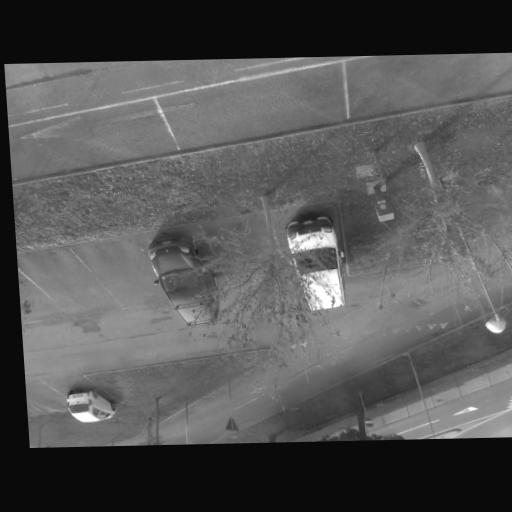busy: (144, 231, 229, 319), (62, 386, 118, 422)
free: (24, 103, 138, 174), (194, 83, 315, 138), (348, 54, 465, 109), (94, 234, 148, 302), (38, 243, 91, 307), (35, 384, 64, 417)
